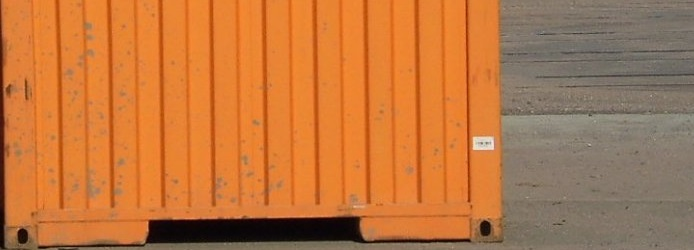container_no_door: (9, 1, 503, 247)
